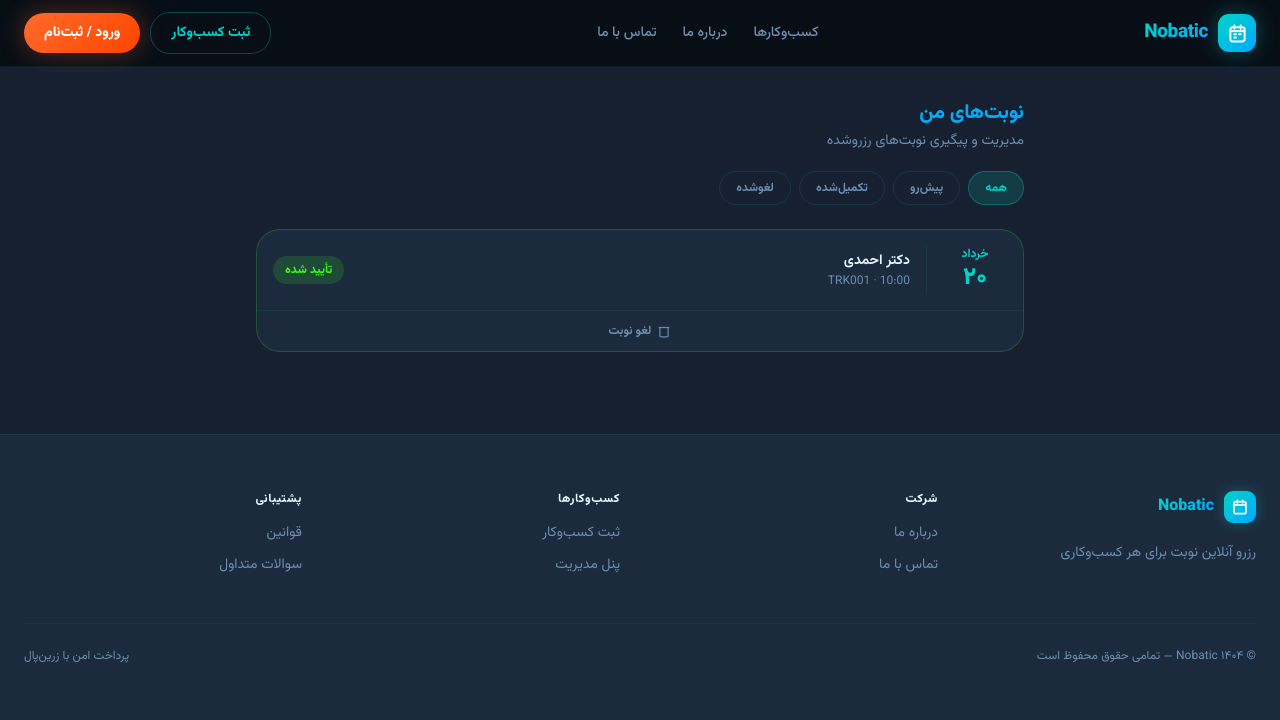
Test: MyAppointmentsPage › closes dialog on dismiss
The width and height of the screenshot is (1280, 720).
Click the button "لغو نوبت": [640, 331] box [257,311,1023,351]
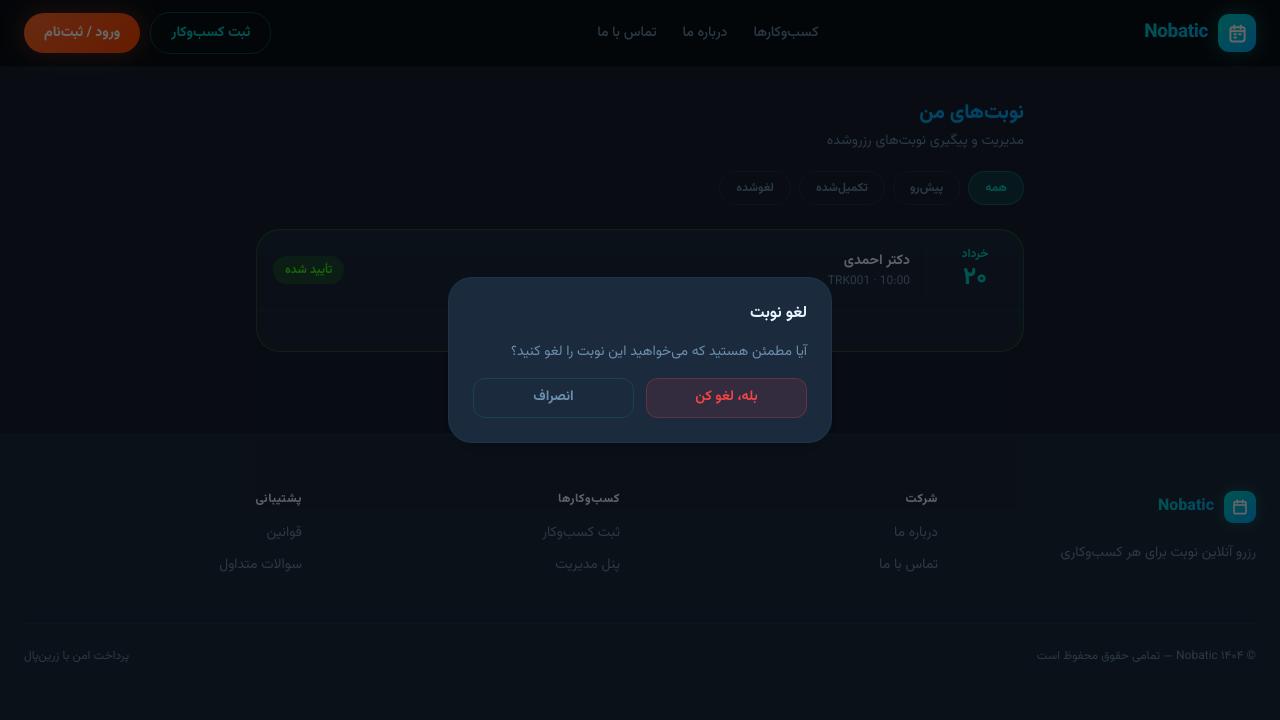
Click the button "انصراف": [554, 398] box [473,378,634,418]
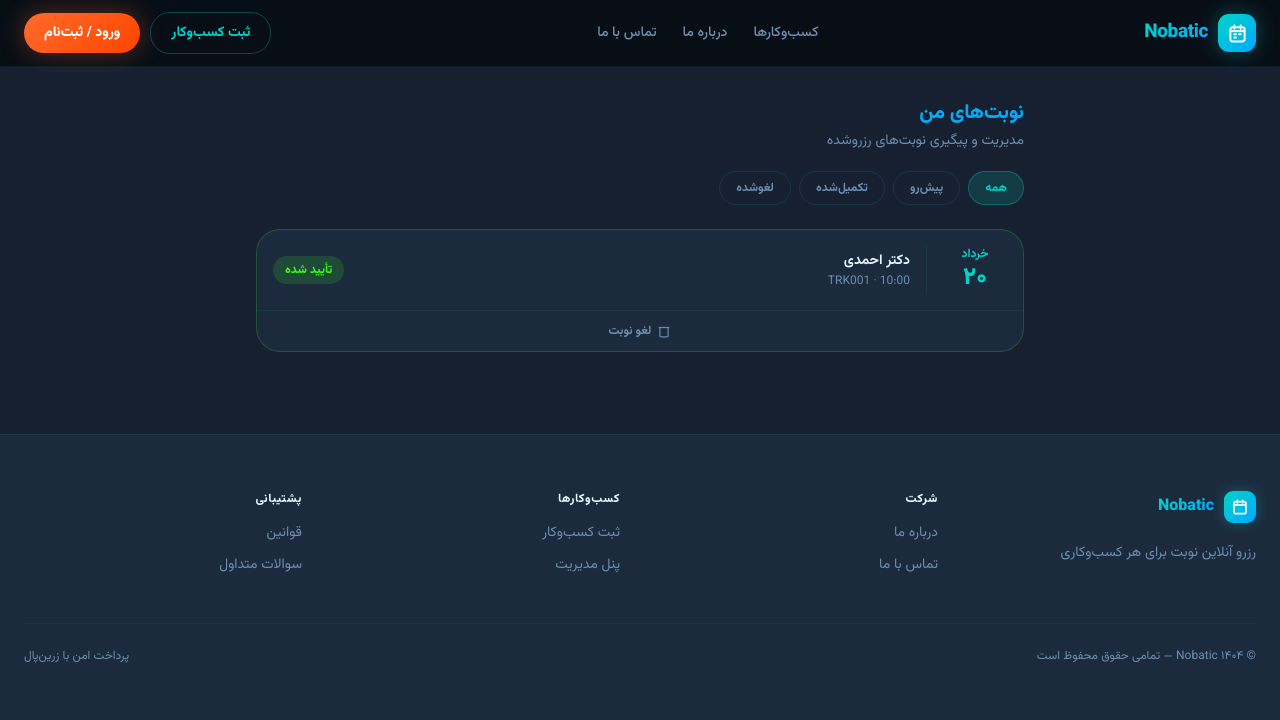
Now the dialog is gone
